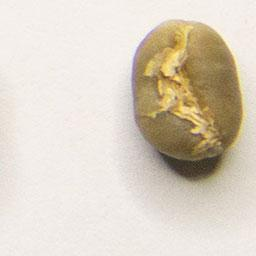peaberry: (129, 15, 245, 166)
